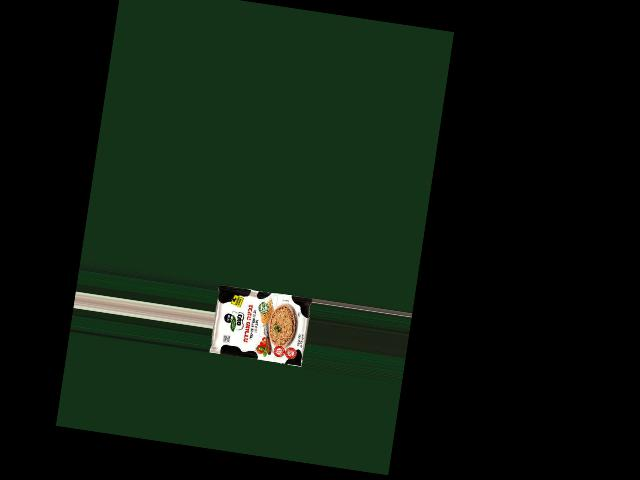cheese: (214, 284, 308, 377)
